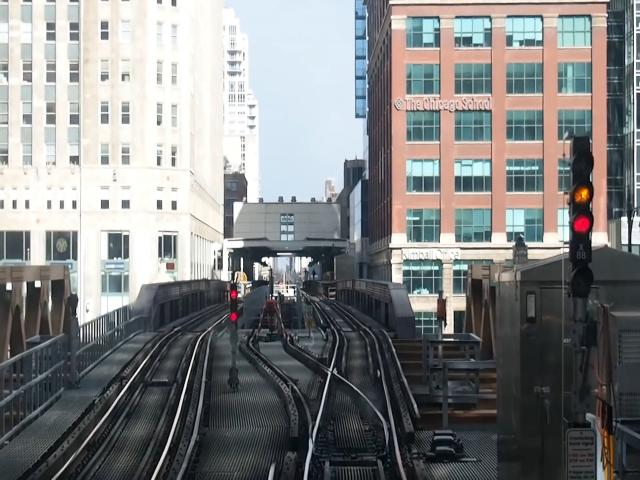signal light: (568, 134, 597, 304), (229, 282, 241, 348)
